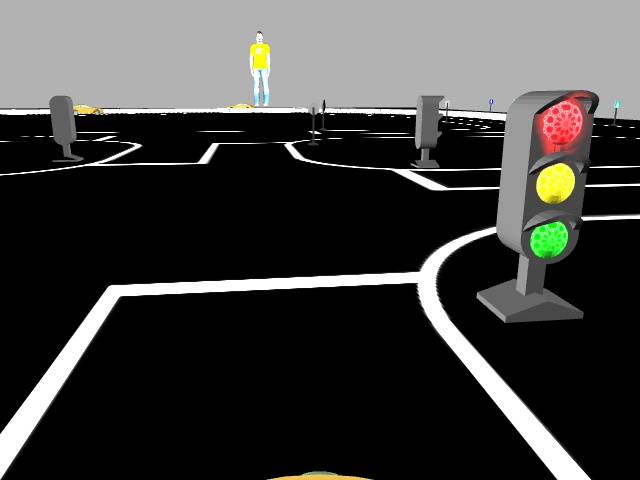TrafficLight: (496, 86, 599, 263)
